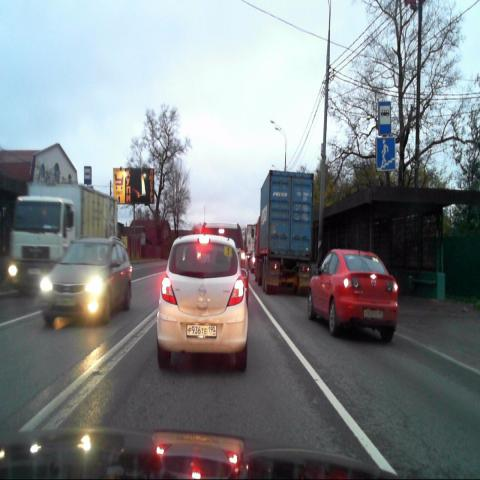5_16: (378, 101, 391, 135), (84, 167, 91, 183)
6_6: (376, 138, 394, 171)
